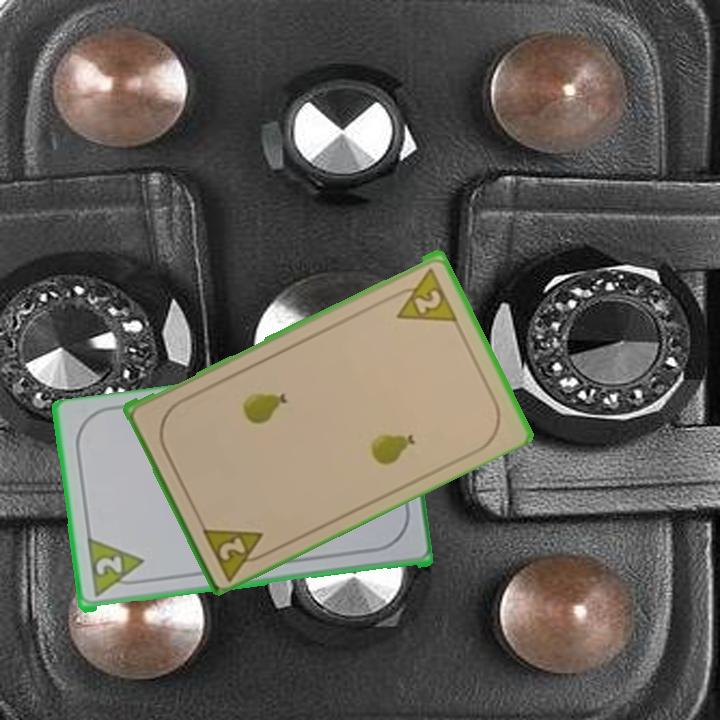2p: (197, 520, 275, 581), (385, 263, 460, 325), (83, 537, 148, 602)
